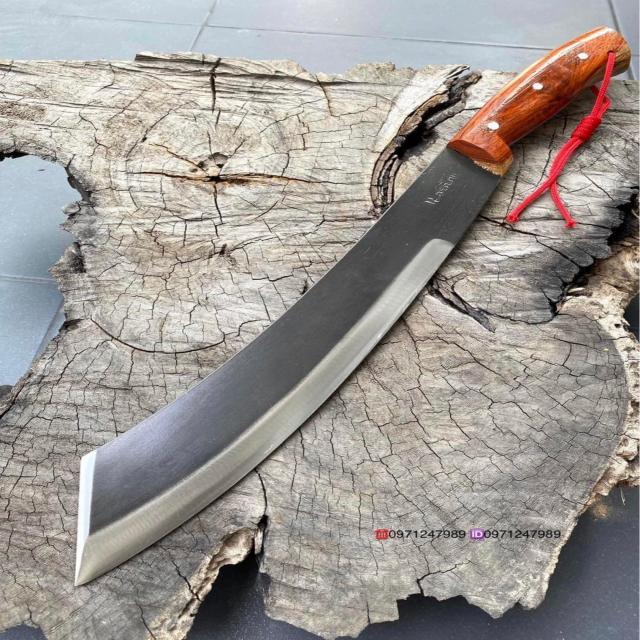eto: (66, 21, 638, 589)
